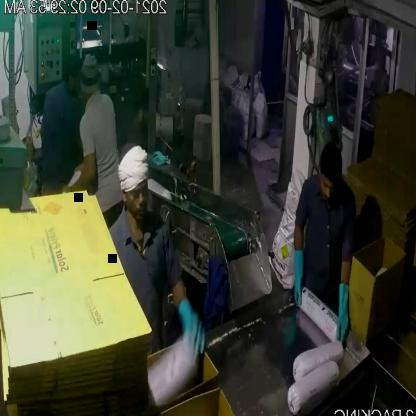glove: (175, 290, 209, 365), (328, 268, 355, 352), (287, 240, 312, 318)
no_glove: (56, 145, 99, 200)
